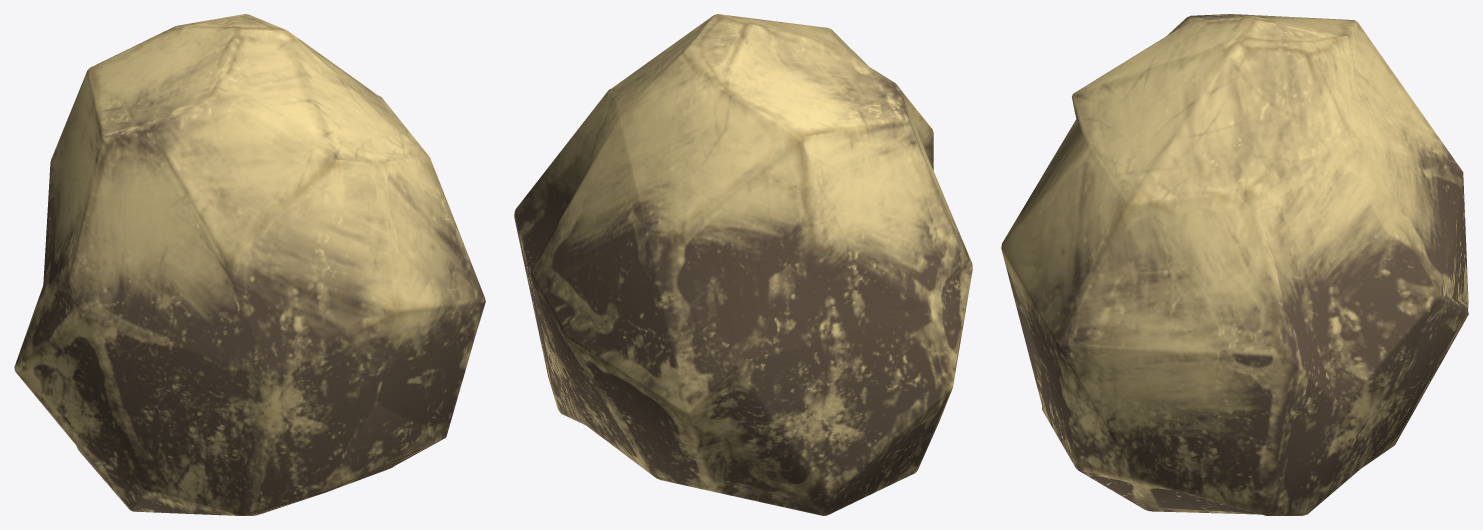
The model's file is GoldenNugget1.fbx.
3 views of the same model, side by side, from view 1: azimuth 30°, elevation 25°; view 2: azimuth 150°, elevation 25°; view 3: azimuth 270°, elevation 25° (orthographic). The views are drawn at different scales.
Parts seen in each view (by area): view 1: nug2.002; view 2: nug2.002; view 3: nug2.002.
Part boxes in pixels (box(x1,y1,x2,y2)): nug2.002: box(14, 14, 485, 515); nug2.002: box(514, 14, 972, 515); nug2.002: box(1001, 14, 1468, 515).
Bounding box in the file's own units: 7.11 × 7.73 × 8.05.
